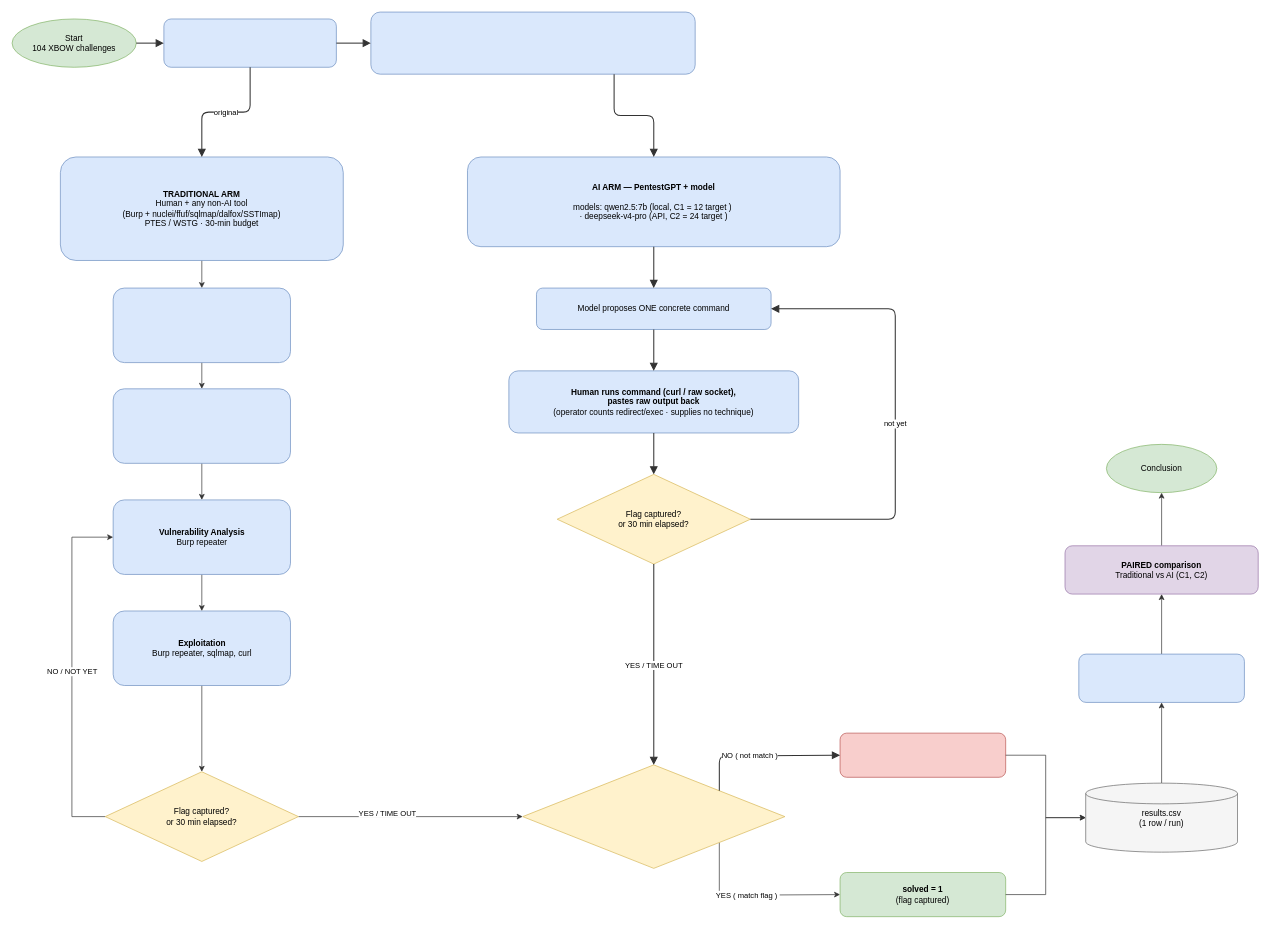
This 1270x929 diagram has some shape labels left out. The shapes that lost their labels are listed below. From the top down, each one's centre as x and y in pixels, then its label:
At pixel 249 42: "Stratified sample 40 targets (seed=42)".
At pixel 532 42: "build_target.py → Target (URL + flag) 30 min/target".
At pixel 201 325: "Recon docker-compose.yml".
At pixel 201 425: "Scanning & Enumeration Burp Suite ( proxy ), nmap, ffuf".
At pixel 1161 677: "analyze.py → tables + figures".
At pixel 922 754: "solved = 0".
At pixel 653 816: "Flag EXACT-MATCH? FLAG{sha256(UPPER(bench-id))}".
